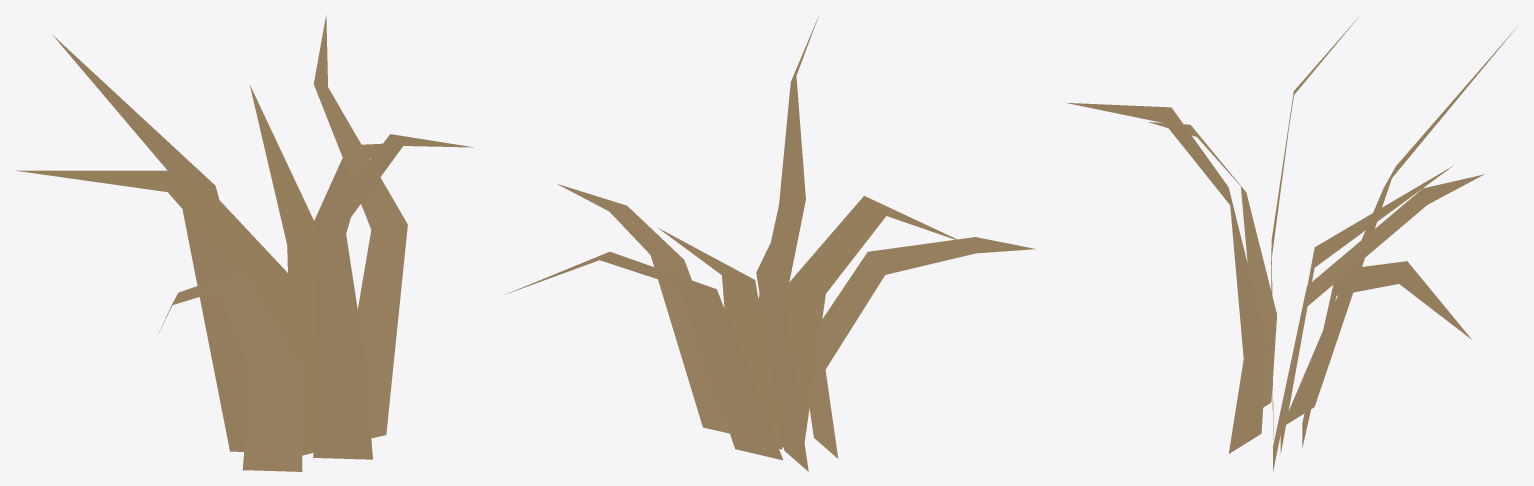
File: Grass_e_TwoS_03.fbx
3 views of the same model, side by side, from view 1: azimuth 30°, elevation 25°; view 2: azimuth 150°, elevation 25°; view 3: azimuth 270°, elevation 25° (orthographic). The views are drawn at different scales.
Parts seen in each view (by area): view 1: Grass_e_TwoS_03; view 2: Grass_e_TwoS_03; view 3: Grass_e_TwoS_03.
Boxes of the visible parts, box(x1,y1,x2,y2) form: Grass_e_TwoS_03: box(16, 15, 473, 471); Grass_e_TwoS_03: box(506, 16, 1035, 471); Grass_e_TwoS_03: box(1065, 17, 1517, 471).
Bounding box in the file's own units: 0.5484 × 0.4434 × 0.5061.
